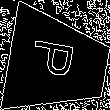P_E: (30, 41, 85, 87)
